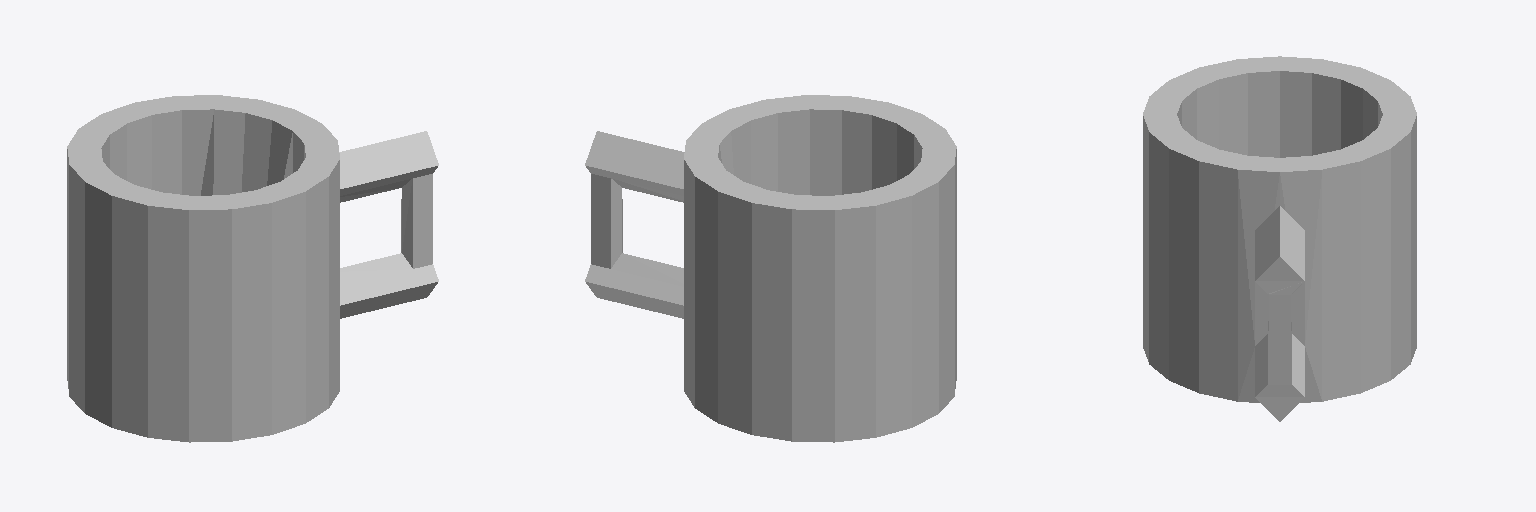
The model's file is Props_Cup_Geo.obj.
3 renders of one model, left to right at view 1: azimuth 30°, elevation 25°; view 2: azimuth 150°, elevation 25°; view 3: azimuth 270°, elevation 25°, orthographic.
Parts seen in each view (by area): view 1: PropZoo:pCylinder12; view 2: PropZoo:pCylinder12; view 3: PropZoo:pCylinder12.
Boxes of the visible parts, x1=… form: PropZoo:pCylinder12: x1=67, y1=95, x2=438, y2=442; PropZoo:pCylinder12: x1=585, y1=95, x2=956, y2=442; PropZoo:pCylinder12: x1=1143, y1=56, x2=1416, y2=421.
Size of the model in its own units: 0.2025 by 0.1313 by 0.1406.